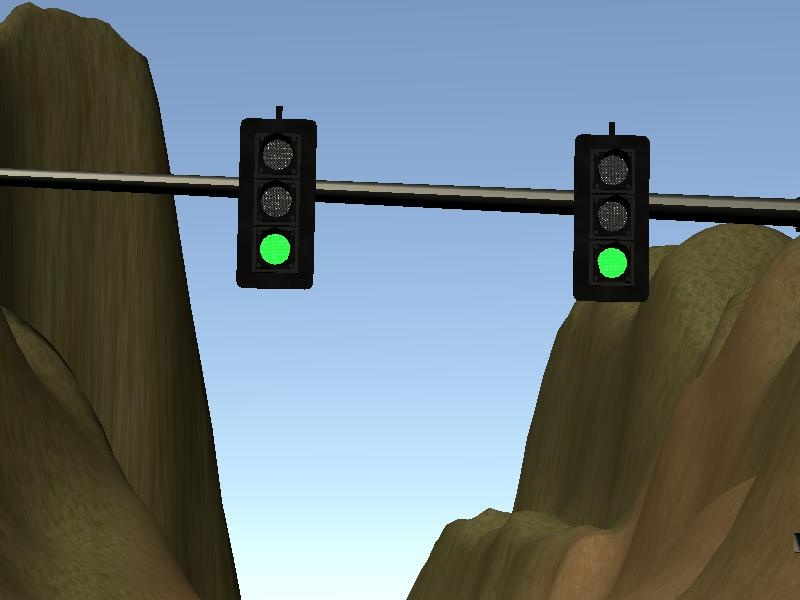green: (231, 97, 322, 307), (567, 115, 659, 316)
